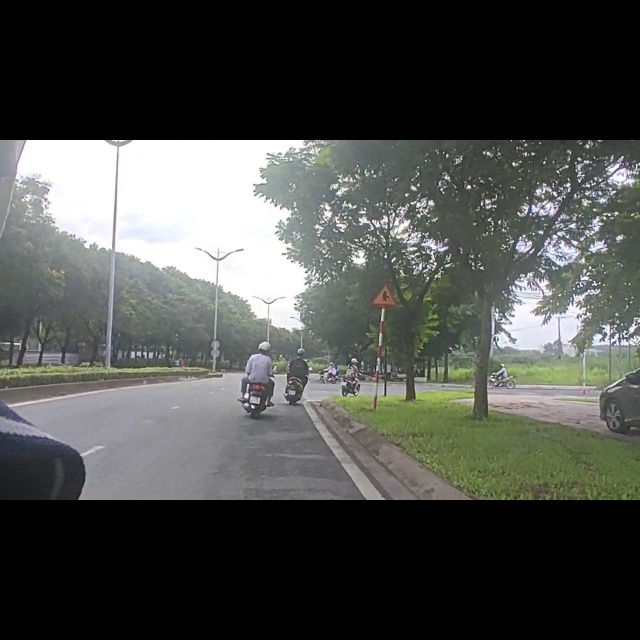Giao nhau với đường không ưu tiên: (370, 282, 401, 308)
